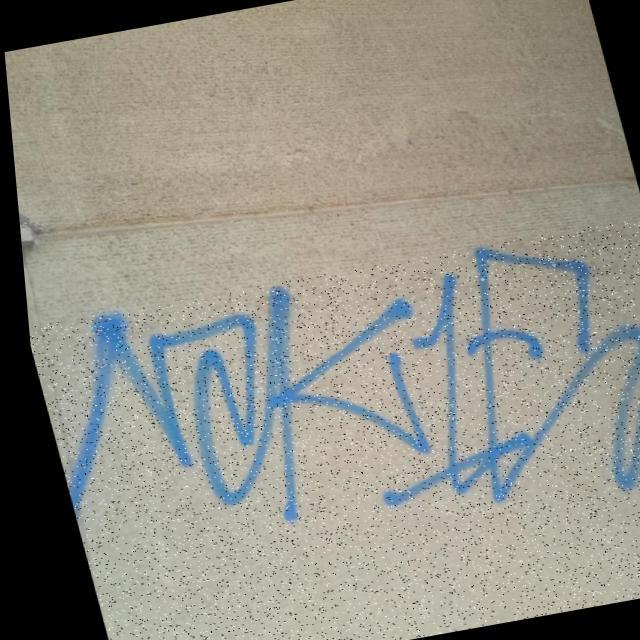-: (15, 216, 640, 640)
